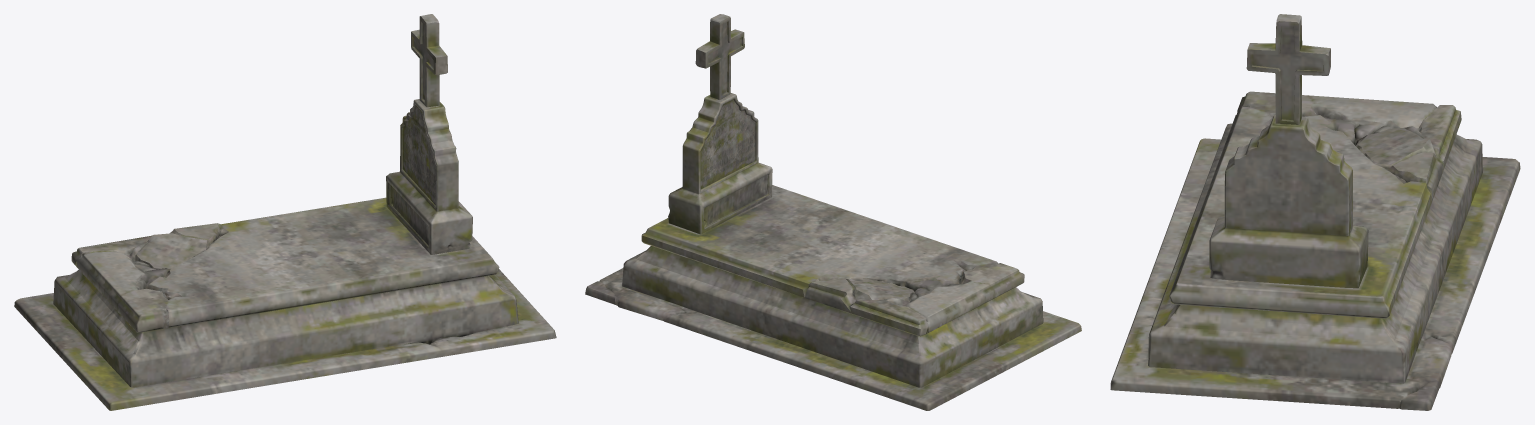
The model's file is Cemetery_OBJ_Tomb_03.fbx.
3 views of the same model, side by side, from view 1: azimuth 30°, elevation 25°; view 2: azimuth 150°, elevation 25°; view 3: azimuth 270°, elevation 25° (orthographic). The views are drawn at different scales.
Visible parts, largest first — view 1: Cemetery_OBJ_Tomb_03; view 2: Cemetery_OBJ_Tomb_03; view 3: Cemetery_OBJ_Tomb_03.
Part boxes in pixels (box(x1,y1,x2,y2)): Cemetery_OBJ_Tomb_03: box(14, 14, 556, 410); Cemetery_OBJ_Tomb_03: box(585, 14, 1081, 410); Cemetery_OBJ_Tomb_03: box(1110, 14, 1520, 410).
Bounding box in the file's own units: 251 × 151 × 165.
Materials: 1 (1 with a texture image).
